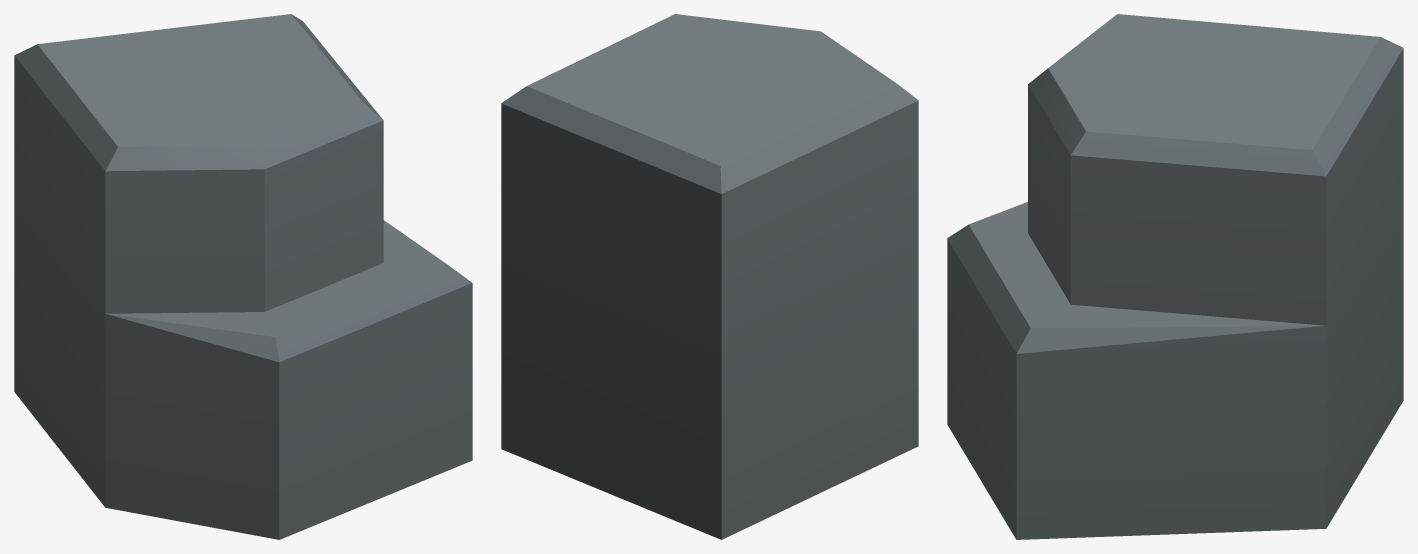
Rendered from Rock_1_C_Color1.glb.
3 views of the same model, side by side, from view 1: azimuth 30°, elevation 25°; view 2: azimuth 150°, elevation 25°; view 3: azimuth 270°, elevation 25° (orthographic). The views are drawn at different scales.
Parts seen in each view (by area): view 1: Rock_1_C_Color1; view 2: Rock_1_C_Color1; view 3: Rock_1_C_Color1.
Boxes of the visible parts, <box> form: Rock_1_C_Color1: <box>14,14,472,539</box>; Rock_1_C_Color1: <box>501,14,918,539</box>; Rock_1_C_Color1: <box>947,14,1403,539</box>.
Bounding box in the file's own units: 0.5188 × 0.5403 × 0.6051.
Materials: 1 (1 with a texture image).
